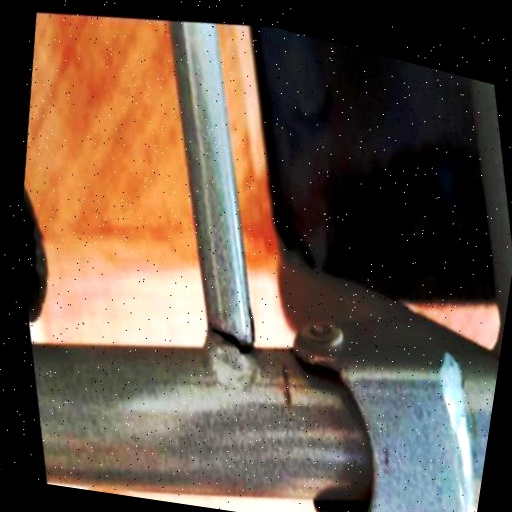crack: (182, 282, 283, 389), (465, 333, 503, 415)
